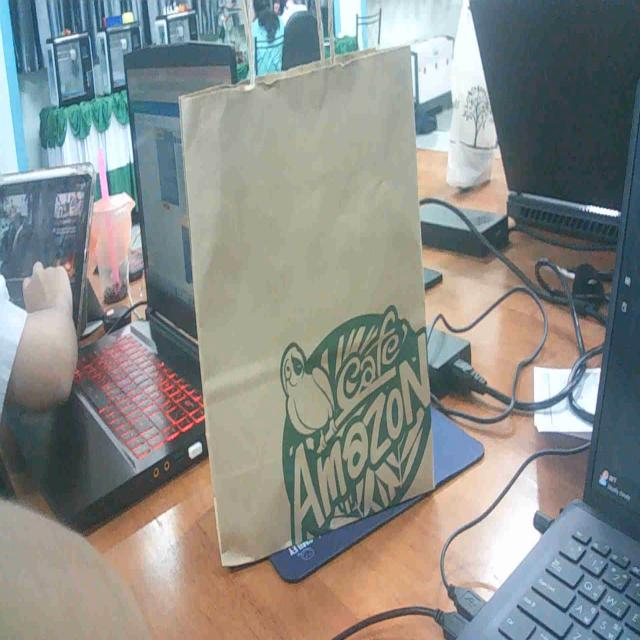bag: (195, 50, 436, 548)
